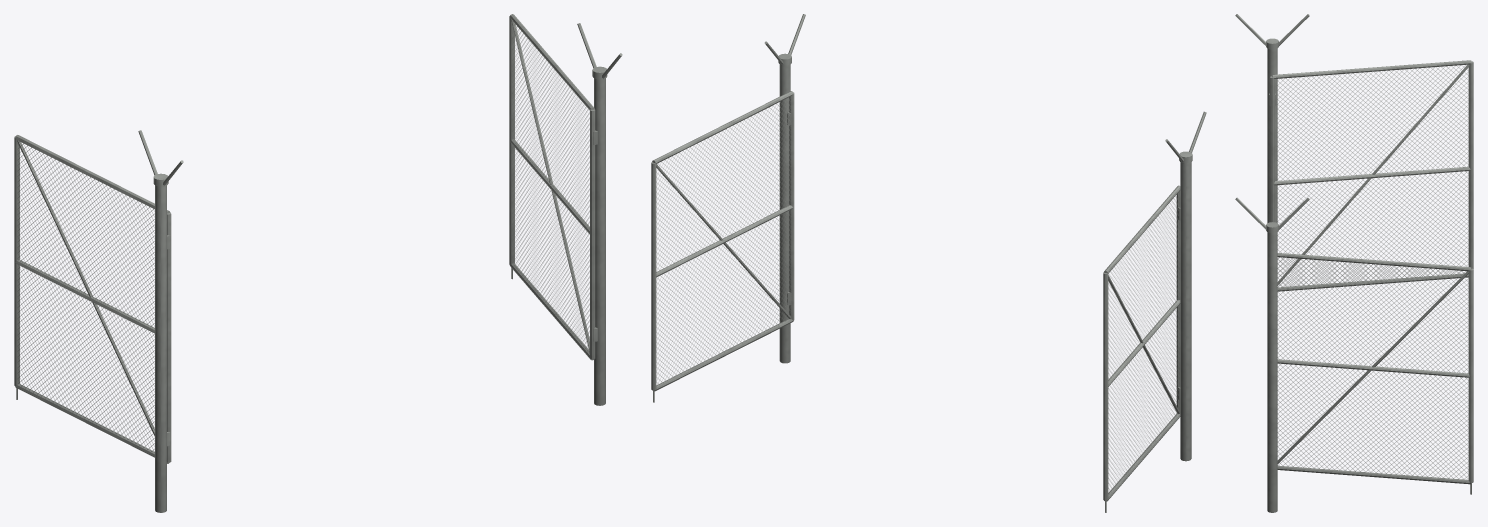
Rendered from fence_gate.glb.
3 views of the same model, side by side, from view 1: azimuth 30°, elevation 25°; view 2: azimuth 150°, elevation 25°; view 3: azimuth 270°, elevation 25° (orthographic). The views are drawn at different scales.
Visible parts, largest first — view 1: fence_gate; view 2: fence_gate; view 3: fence_gate.
Boxes of the visible parts, x1,y1,x2,y2 form: fence_gate: (14,14,622,512); fence_gate: (651,14,1206,512); fence_gate: (1235,14,1473,512).
Bounding box in the file's own units: 4.79 × 3.34 × 2.3.
2 materials, 2 textured.
